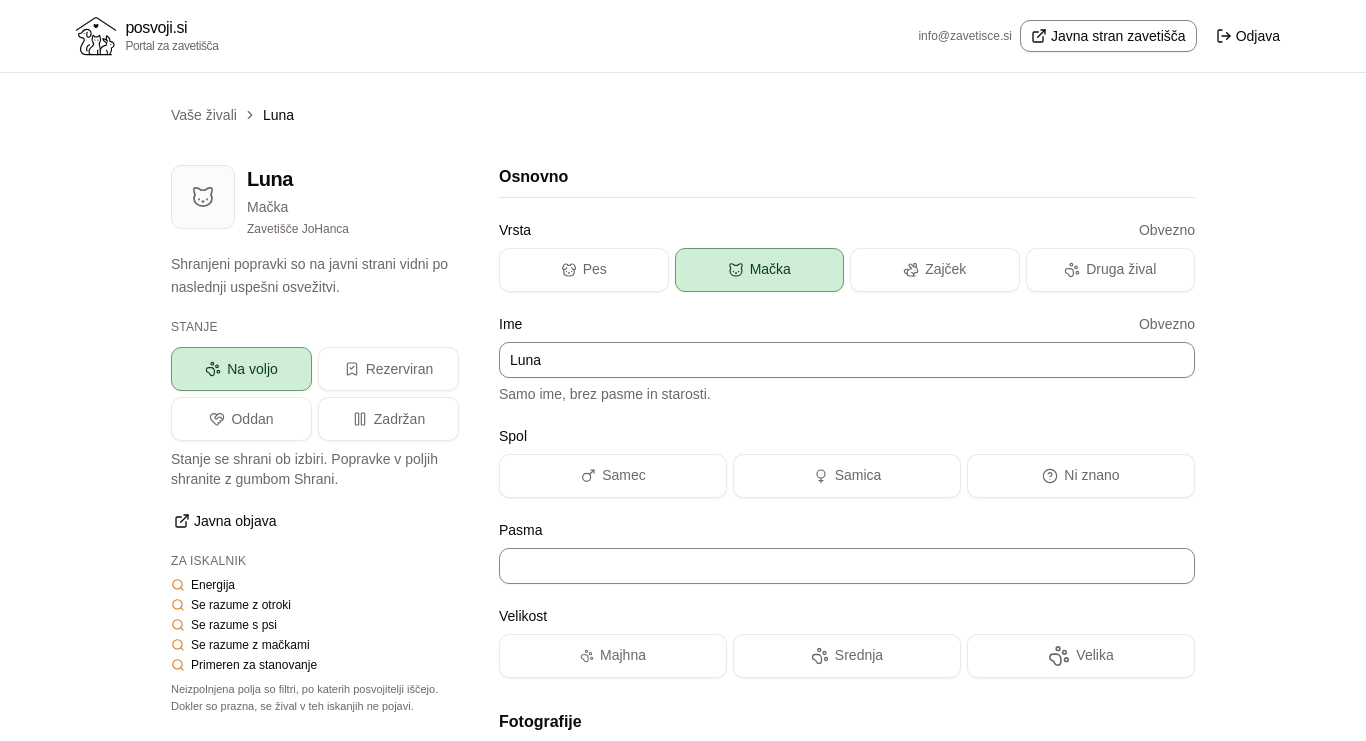
a save that did not go through › comes back for a second failure
This screenshot has width=1366, height=741.
Replace the text in the field labelled "Ime" with "Lunica": (847, 360) [499, 342, 1195, 378]
(page scrolled)
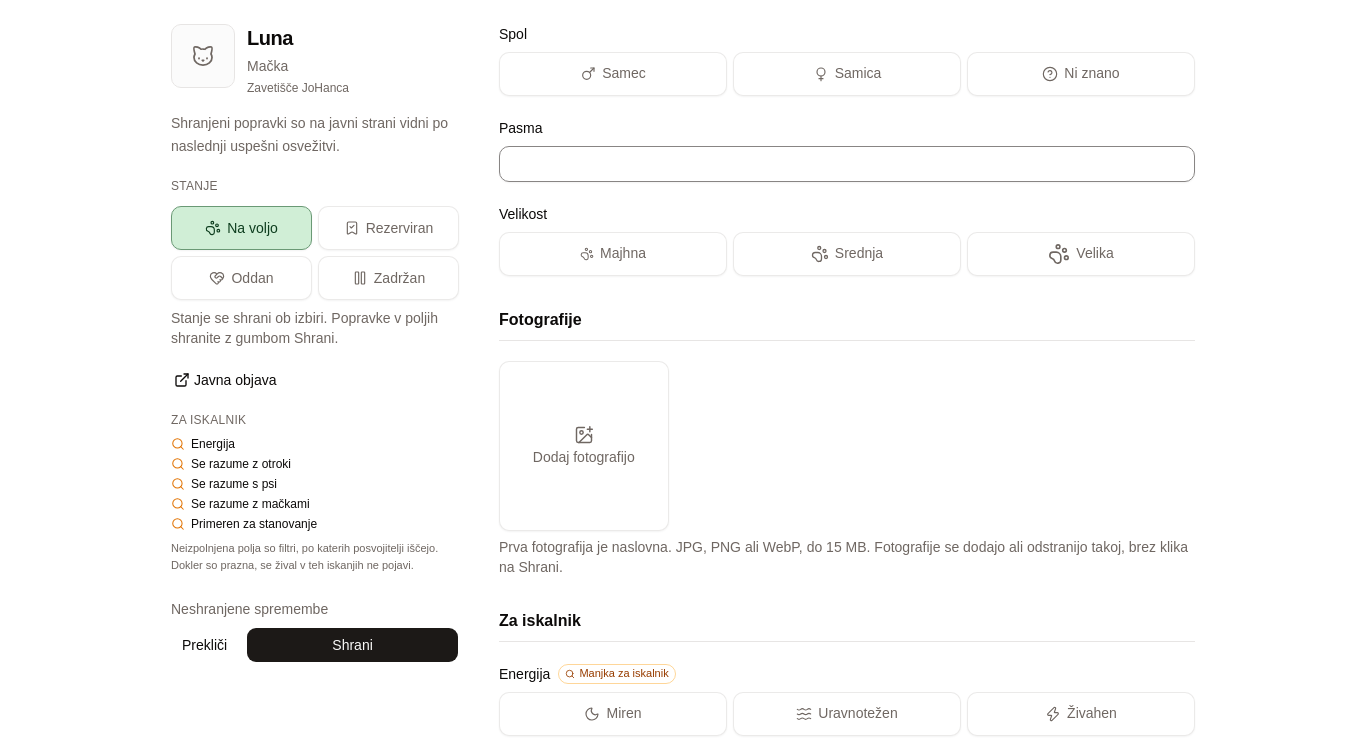
Click the button "Shrani": (353, 645) [246, 627, 459, 663]
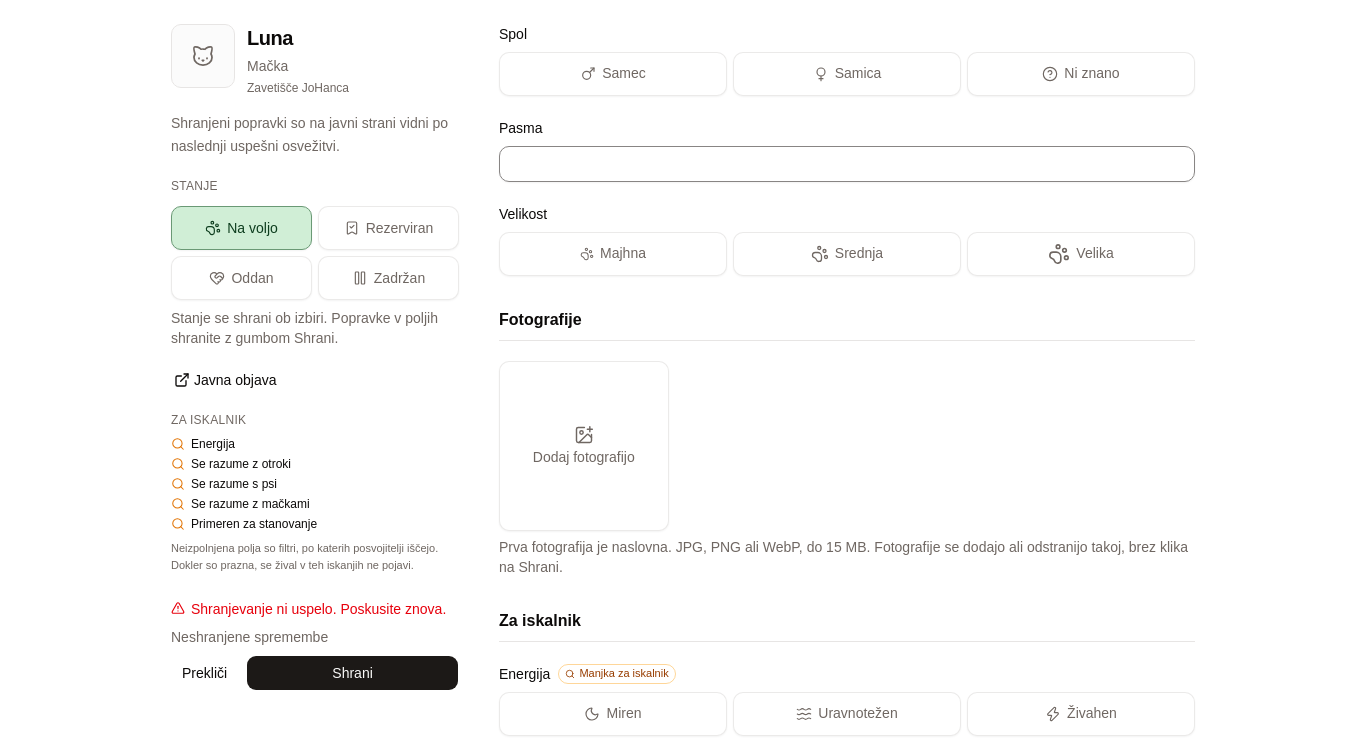
Now the message "Shranjevanje ni uspelo. Poskusite znova." is shown, box [171, 599, 459, 619]
In the field labelled "Pasma": (847, 164) [499, 146, 1195, 182], type "mešanec"
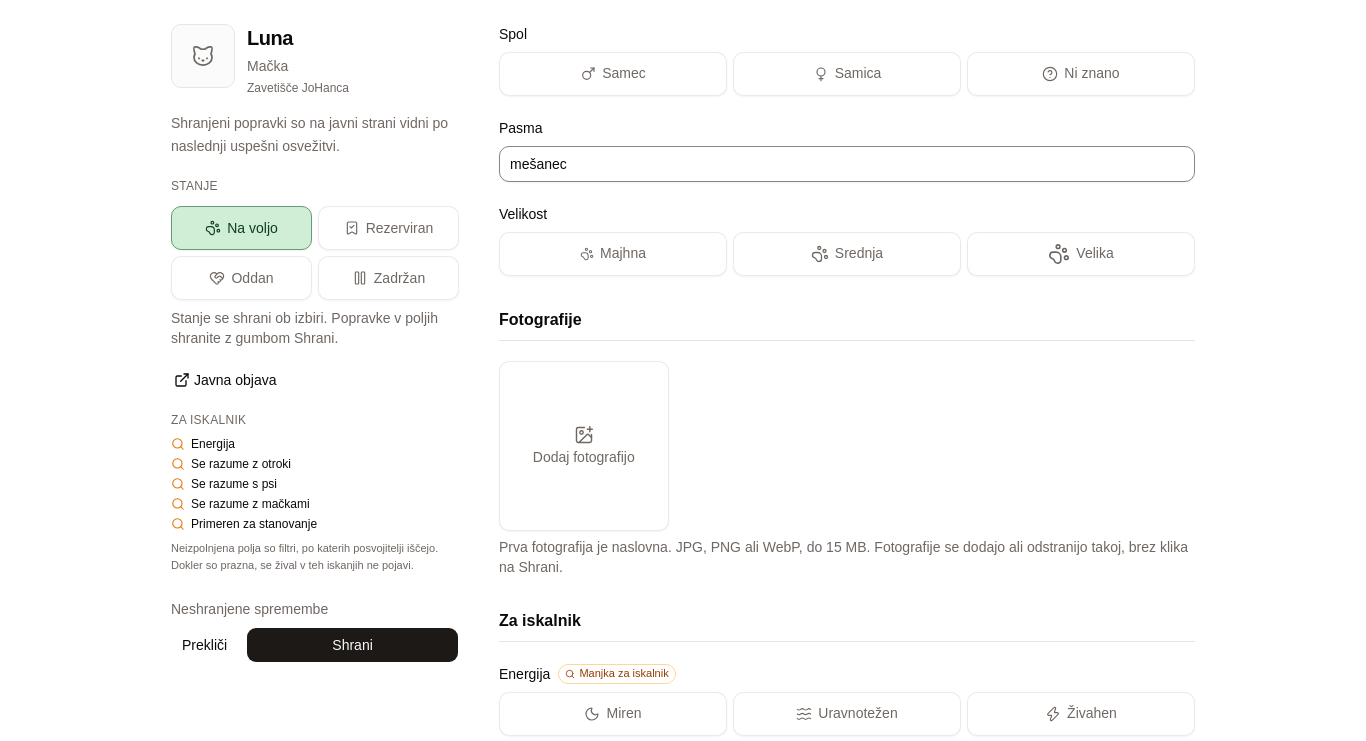
Now the message "Shranjevanje ni uspelo. Poskusite znova." is gone
Click the button "Shrani": (353, 645) [246, 627, 459, 663]
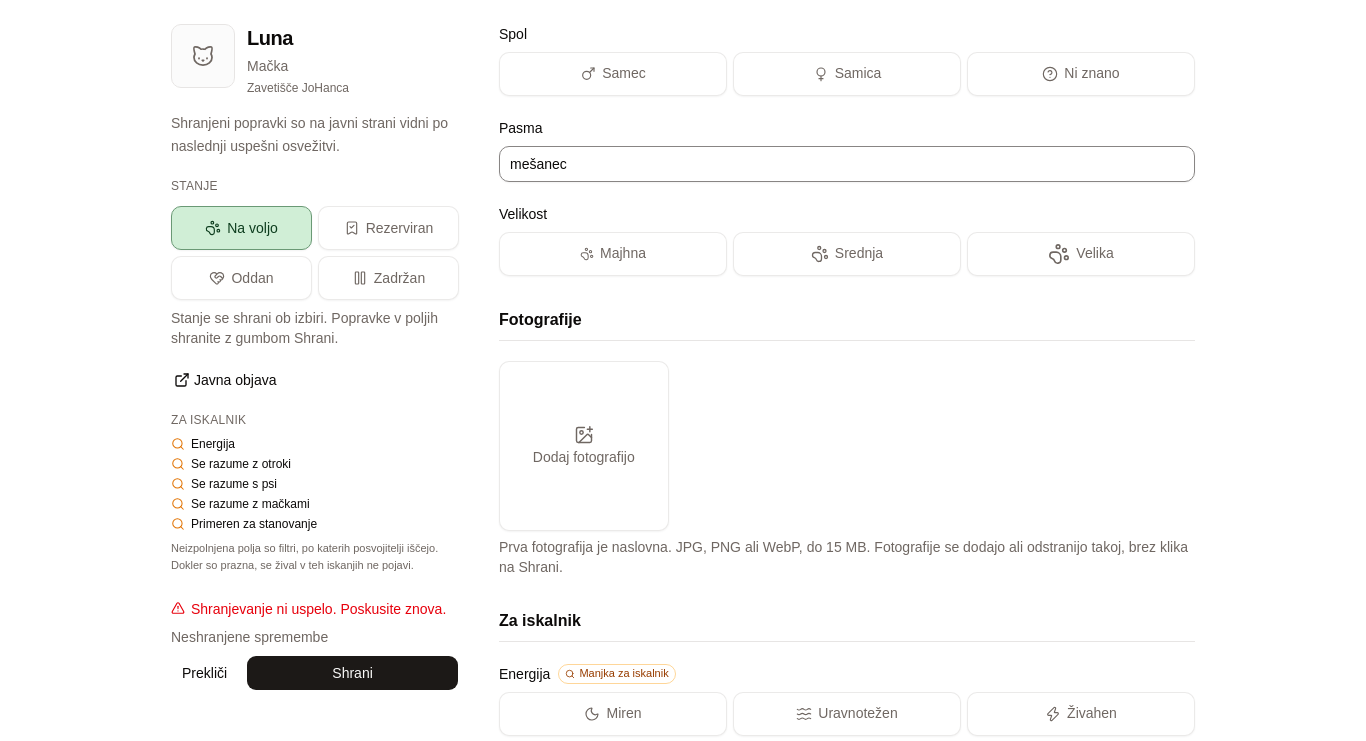
Now the message "Shranjevanje ni uspelo. Poskusite znova." is shown, box [171, 599, 459, 619]
